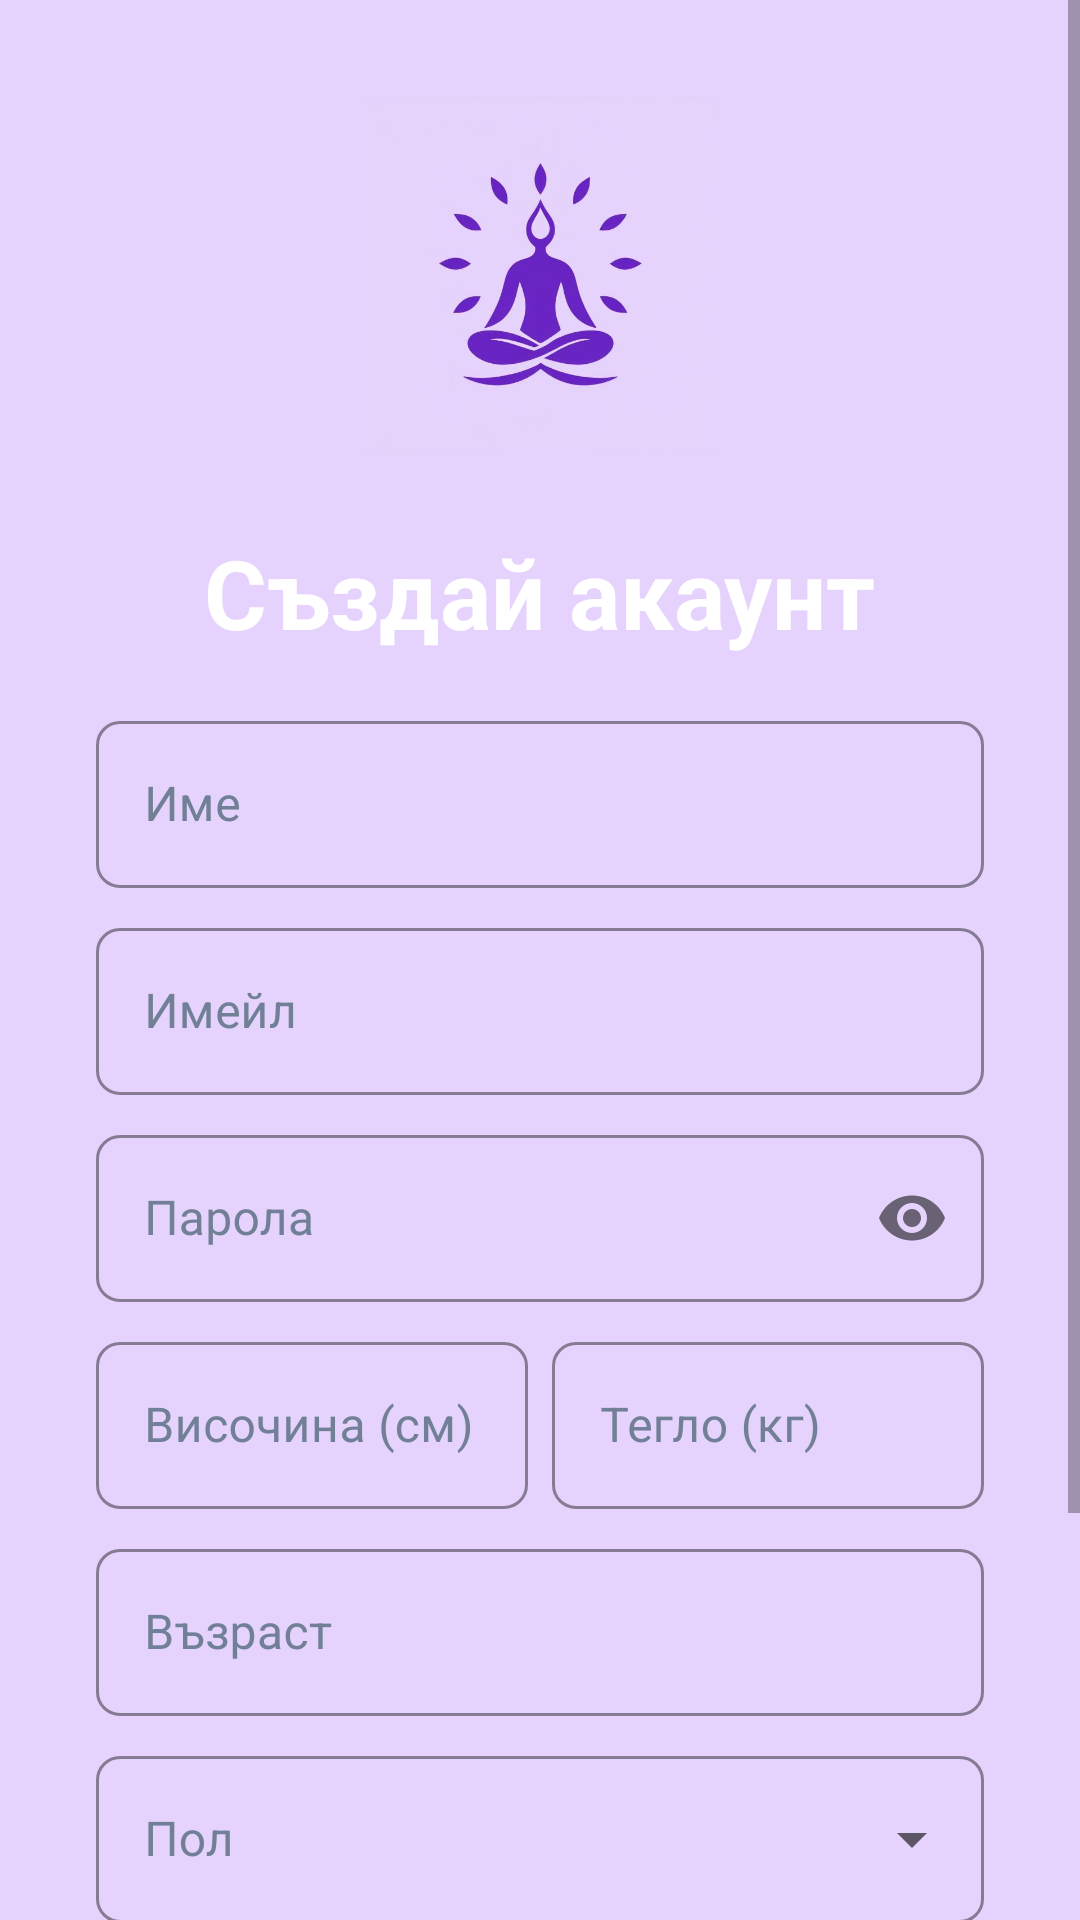

Where to tap for icons on this 1080w x 1920h app screen, as point (x, y):
Лого на приложението: point (540, 274)
